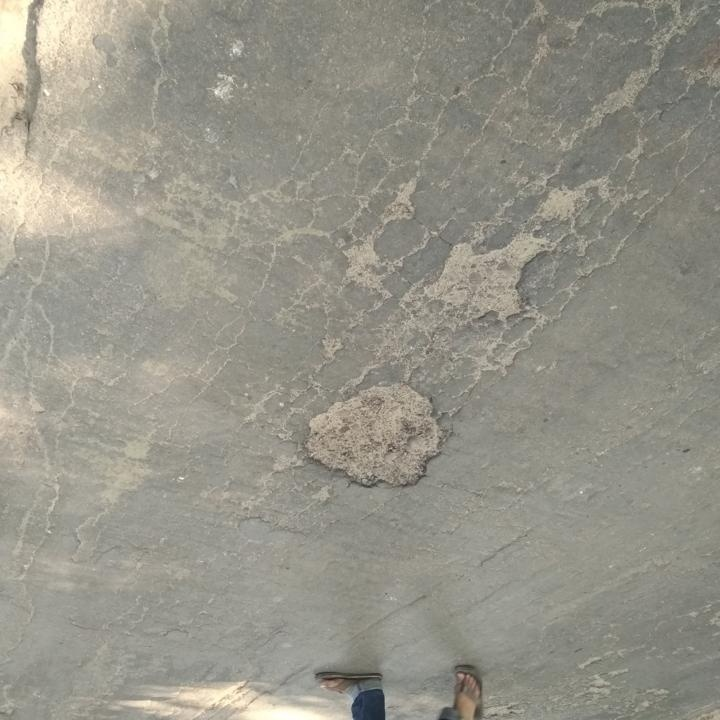pothole: (303, 380, 451, 493), (423, 234, 559, 326)
